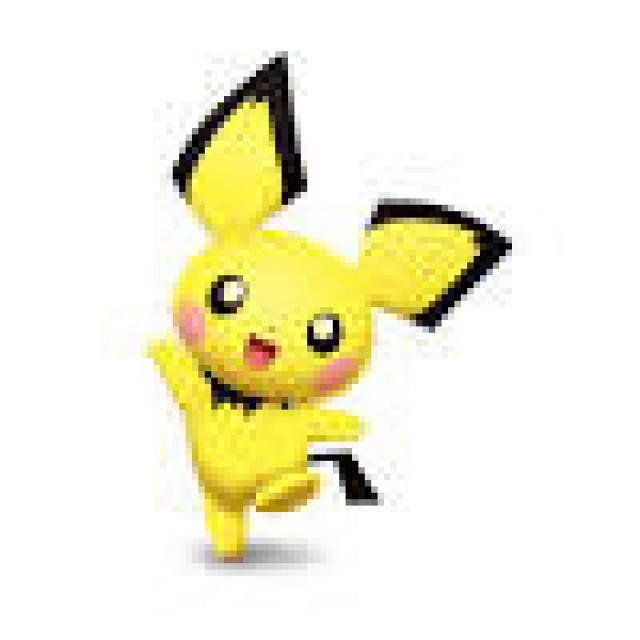pichu: (102, 40, 520, 562)
